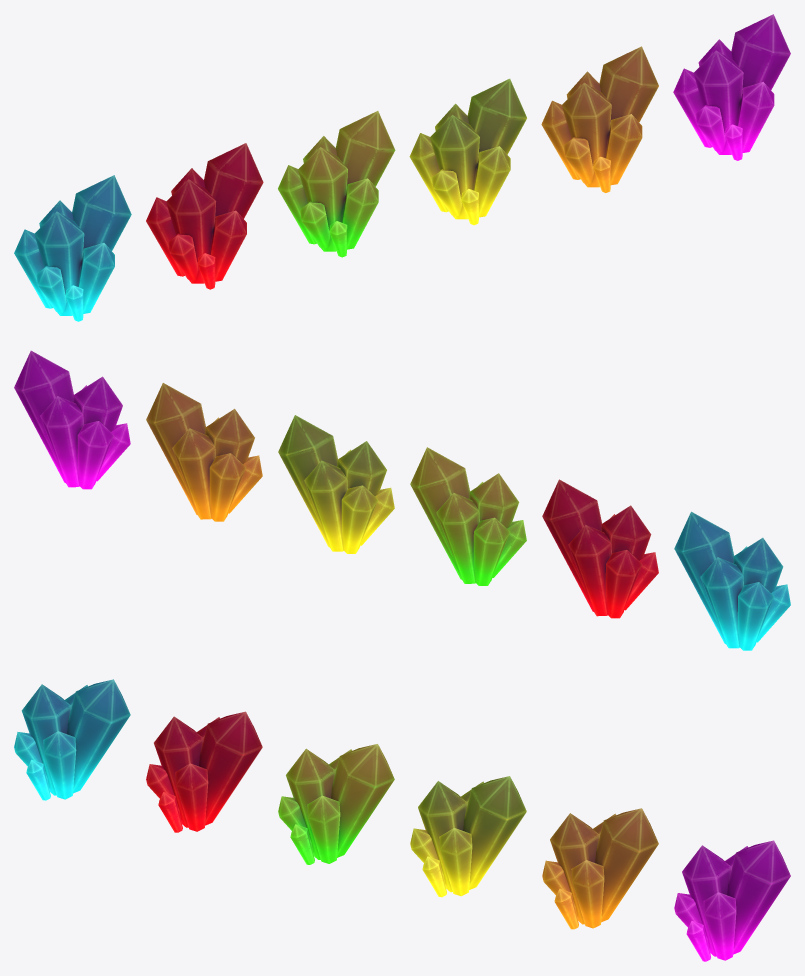
The picture shows the model from 3 angles, top to bottom: view 1: azimuth 30°, elevation 25°; view 2: azimuth 150°, elevation 25°; view 3: azimuth 330°, elevation 25°; orthographic projection.
Visible parts, largest first — view 1: OrangeCrystal, YellowCrystal, RedCrystal, PurpleCrystal, BlueCrystal, GreenCrystal; view 2: BlueCrystal, OrangeCrystal, PurpleCrystal, YellowCrystal, RedCrystal, GreenCrystal; view 3: OrangeCrystal, RedCrystal, GreenCrystal, YellowCrystal, PurpleCrystal, BlueCrystal.
Boxes of the visible parts, x1,y1,x2,y2 form: OrangeCrystal: (541, 46, 658, 192); YellowCrystal: (409, 78, 526, 225); RedCrystal: (146, 143, 263, 289); PurpleCrystal: (673, 14, 790, 160); BlueCrystal: (14, 175, 131, 321); GreenCrystal: (278, 111, 395, 257); BlueCrystal: (674, 511, 790, 650); OrangeCrystal: (146, 383, 262, 521); PurpleCrystal: (14, 350, 130, 489); YellowCrystal: (278, 415, 394, 553); RedCrystal: (542, 479, 658, 618); GreenCrystal: (410, 447, 526, 585); OrangeCrystal: (542, 808, 658, 929); RedCrystal: (146, 711, 262, 832); GreenCrystal: (278, 744, 394, 864); YellowCrystal: (410, 776, 526, 897); PurpleCrystal: (674, 840, 790, 961); BlueCrystal: (14, 679, 130, 800).
Bounding box in the file's own units: 3457 × 535 × 389.
6 materials, 6 textured.
